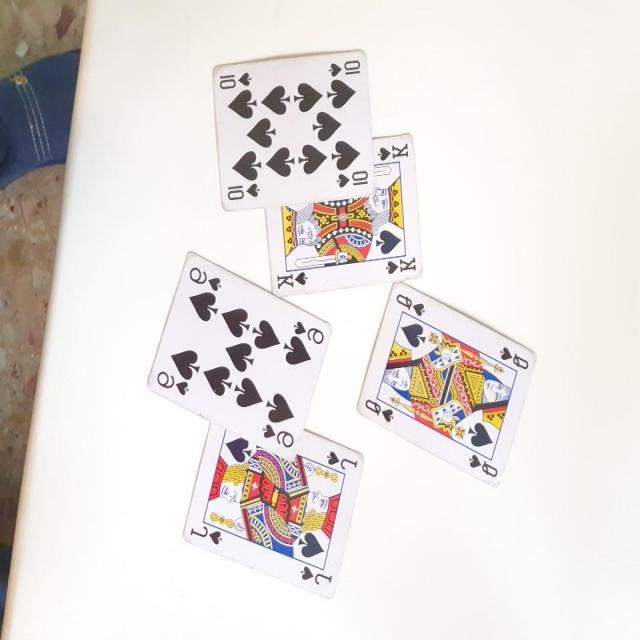10 of spades: (208, 47, 379, 213)
9 of spades: (142, 236, 336, 460)
jack of spades: (177, 417, 370, 601)
king of spades: (258, 130, 426, 296)
queen of spades: (356, 280, 538, 486)
